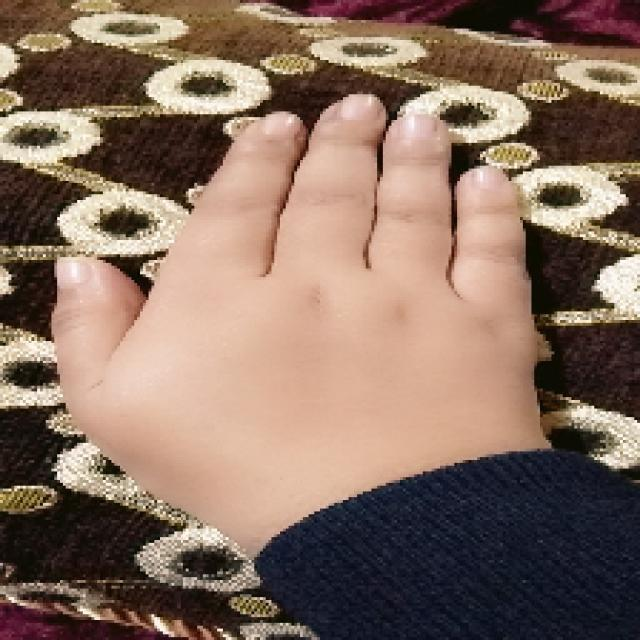Nail: (338, 94, 381, 121), (57, 256, 90, 286), (261, 112, 301, 135), (400, 114, 435, 138), (471, 166, 505, 189)
